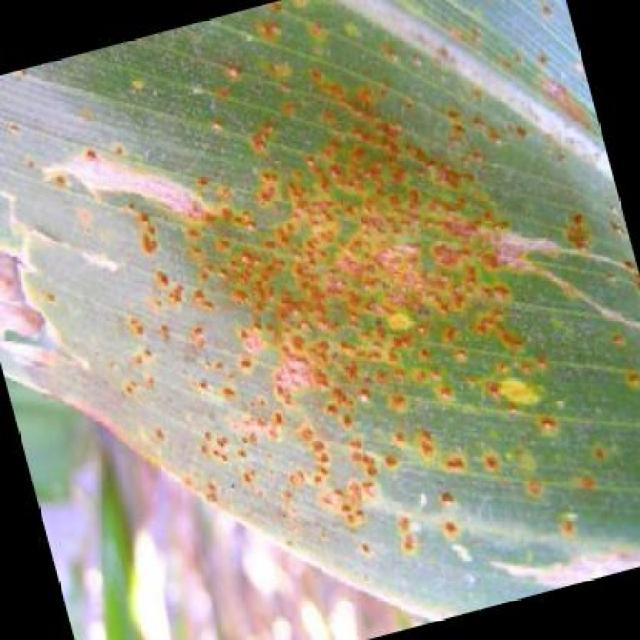Corn_Rust: (63, 71, 574, 589)
